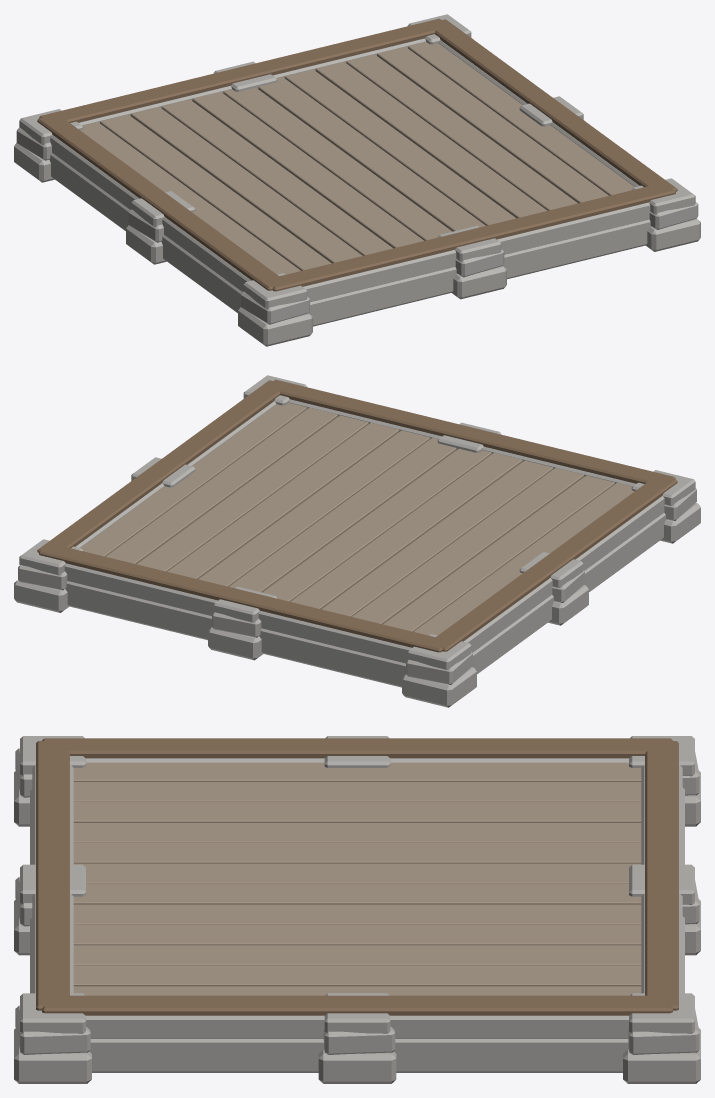
Rendered from stage_1_foundation.glb.
The picture shows the model from 3 angles, top to bottom: view 1: azimuth 30°, elevation 25°; view 2: azimuth 150°, elevation 25°; view 3: azimuth 270°, elevation 25°; orthographic projection. The views are drawn at different scales.
Visible parts, largest first — view 1: stage_1_foundation; view 2: stage_1_foundation; view 3: stage_1_foundation.
Part boxes in pixels (x1,y1,x2,y2): stage_1_foundation: (14, 14, 700, 346); stage_1_foundation: (14, 375, 700, 707); stage_1_foundation: (14, 736, 700, 1083).
Size of the model in its own units: 5.64 by 0.613 by 5.64.
